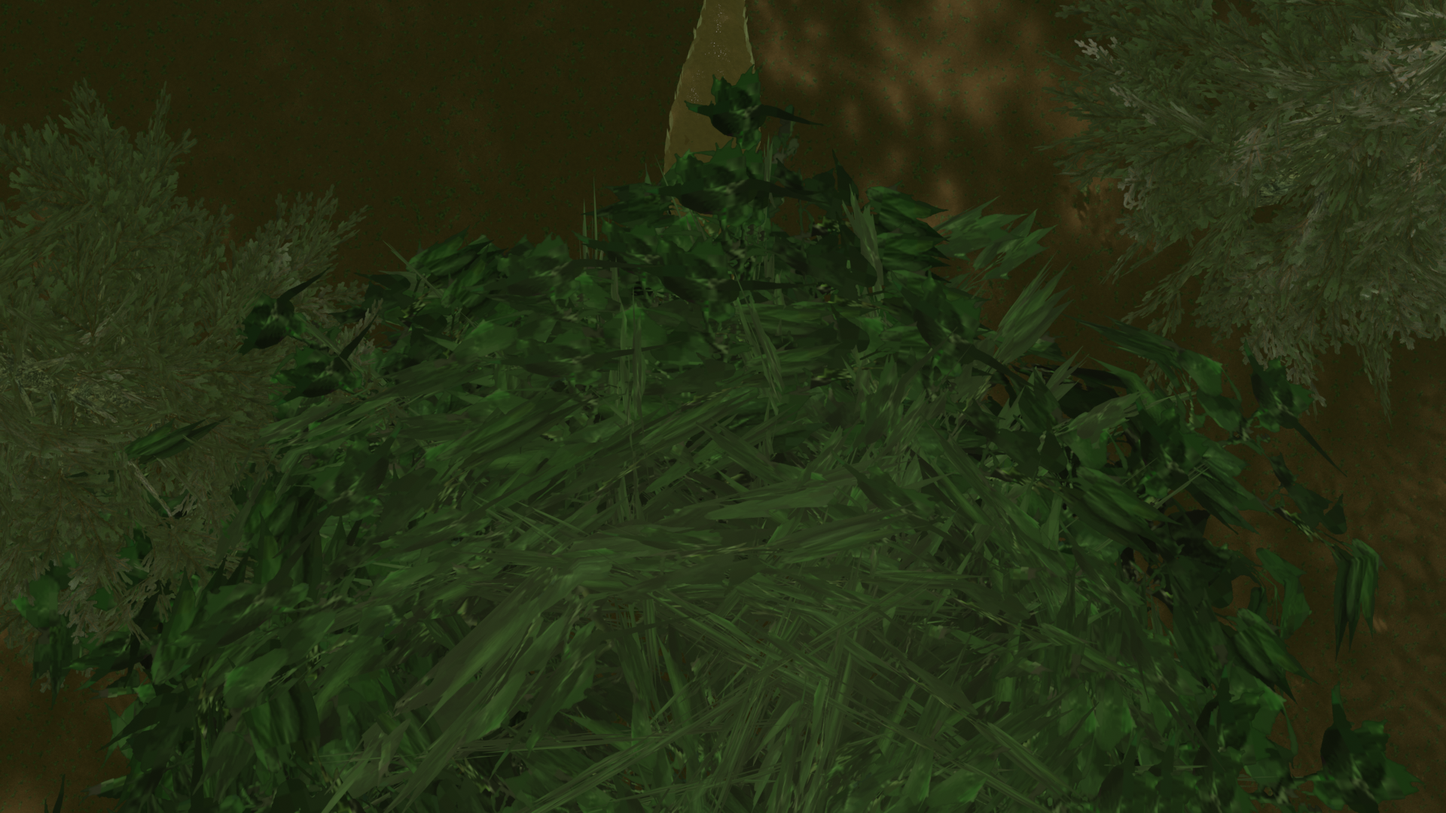pangolin: (631, 0, 856, 388)
